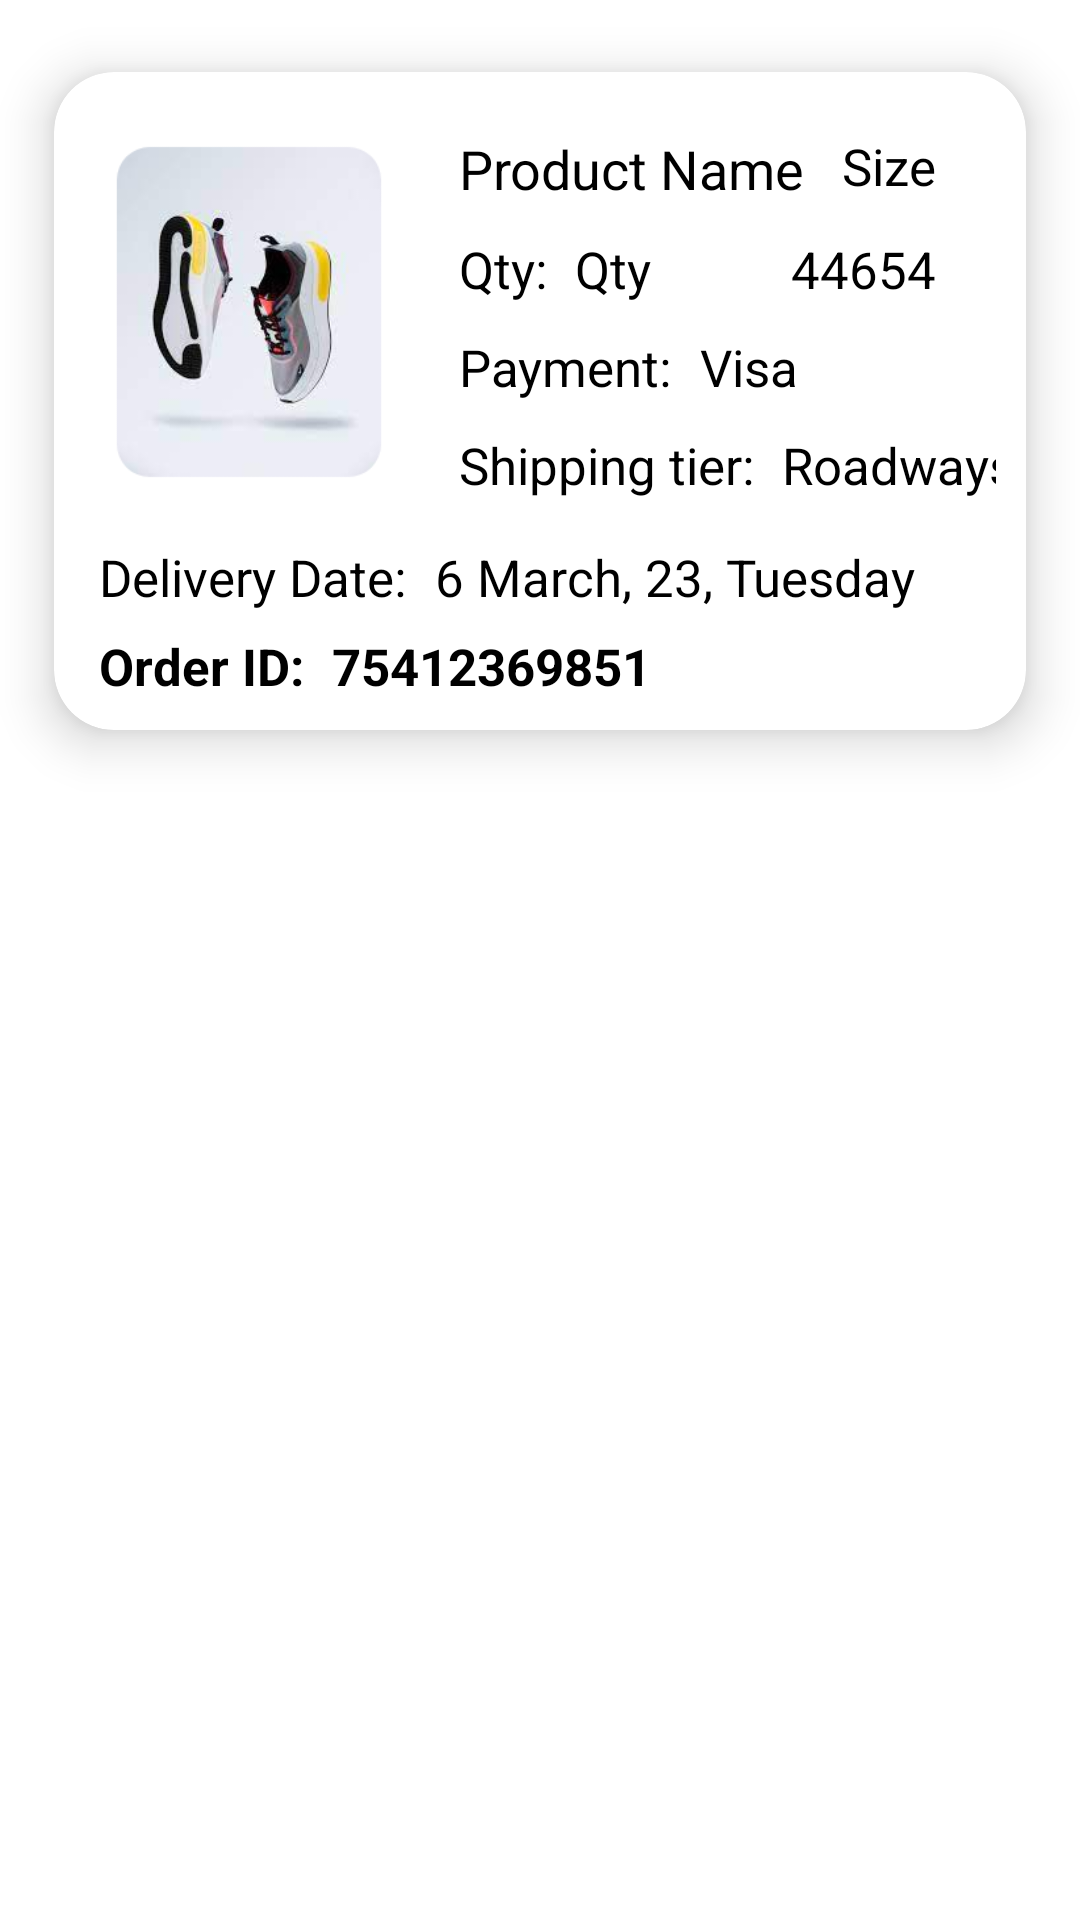

Where icons sit on this 1080px x 1920px app screen, as bbox=[x1, y1, x2, y2]:
shoe: bbox=[116, 147, 381, 477]
